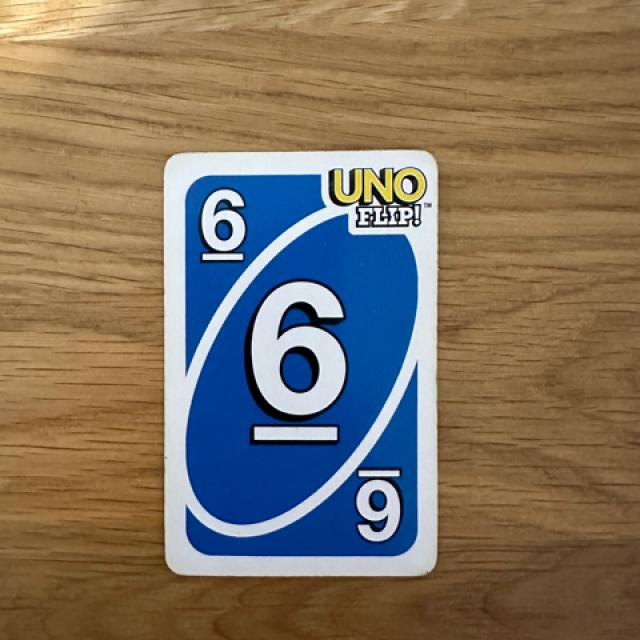lblue-6: (175, 165, 269, 288)
